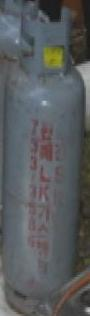cylinder: (1, 1, 90, 316)
